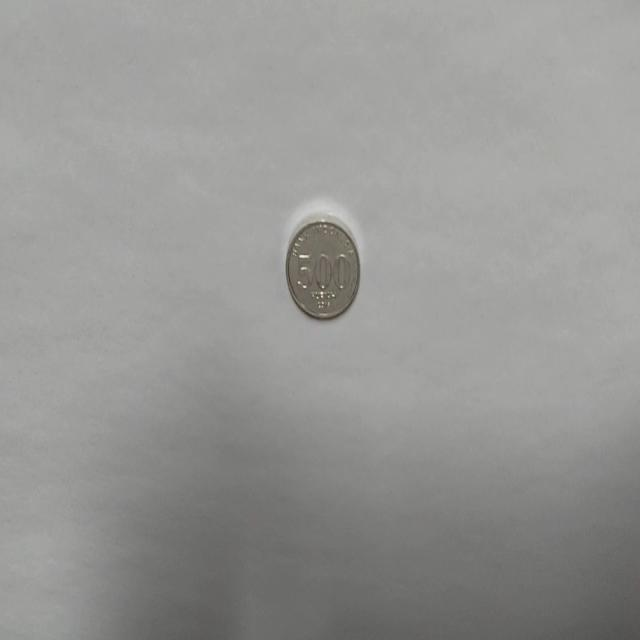lima ratus rupiah: (284, 216, 360, 321)
